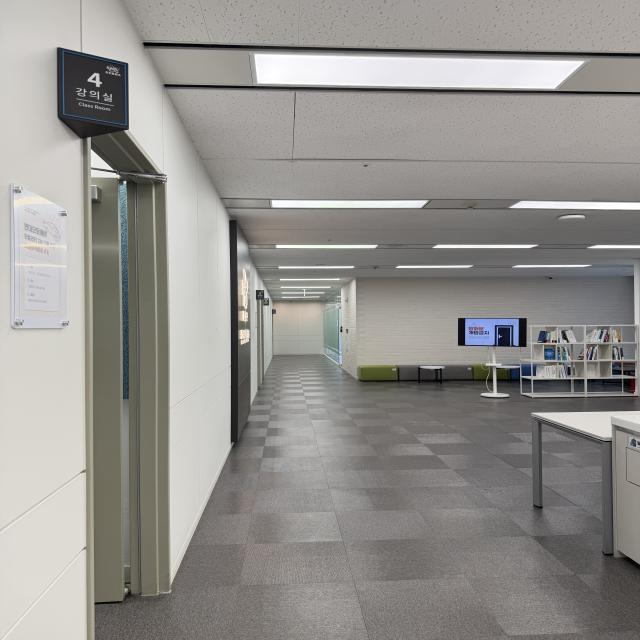sign: (58, 50, 128, 126)
